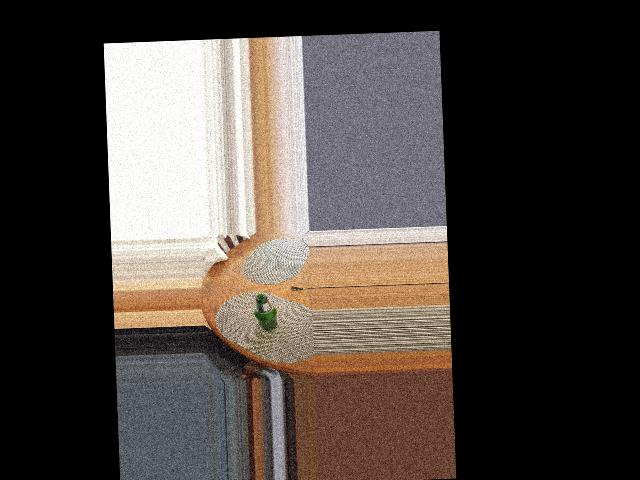beer: (252, 293, 276, 331)
